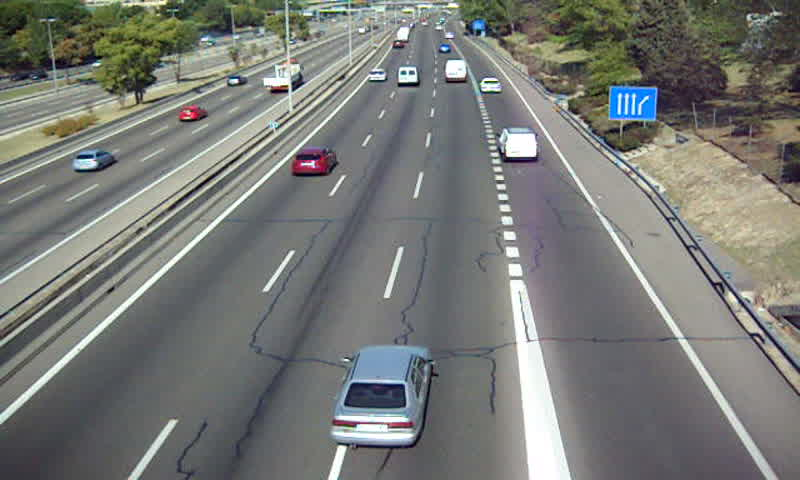car: (331, 344, 431, 445), (291, 147, 336, 174), (479, 77, 502, 94), (367, 68, 386, 81)
van: (500, 127, 538, 161), (444, 59, 468, 82), (396, 66, 418, 88)
